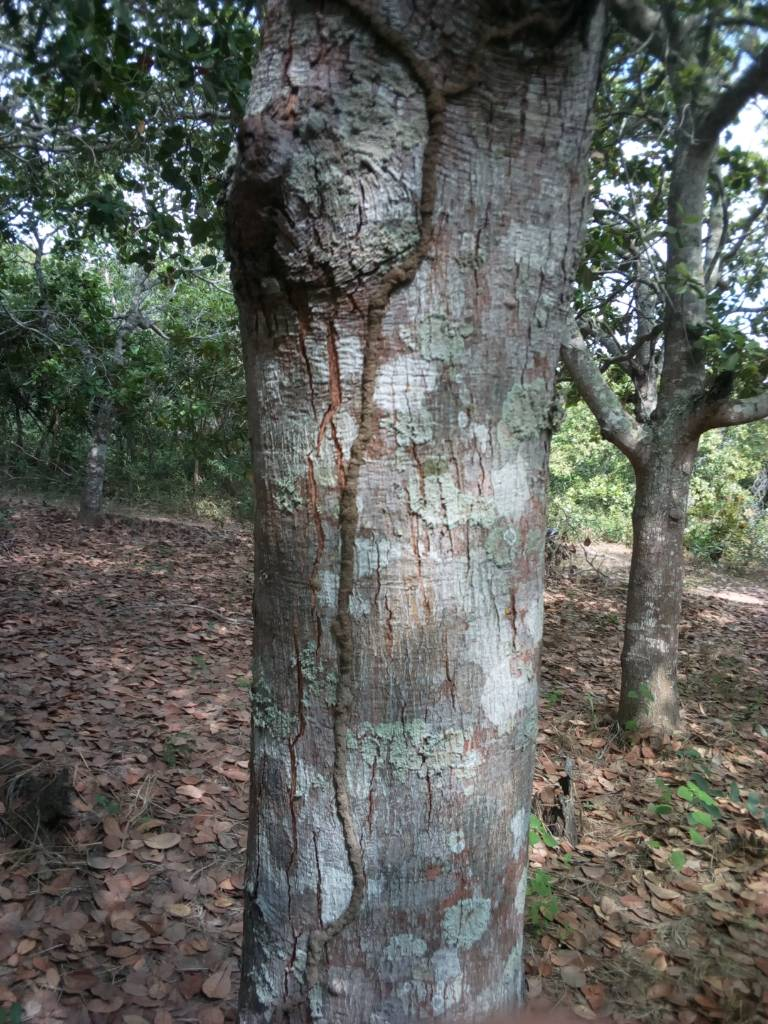Termites: (327, 300, 375, 980), (382, 44, 468, 274)
